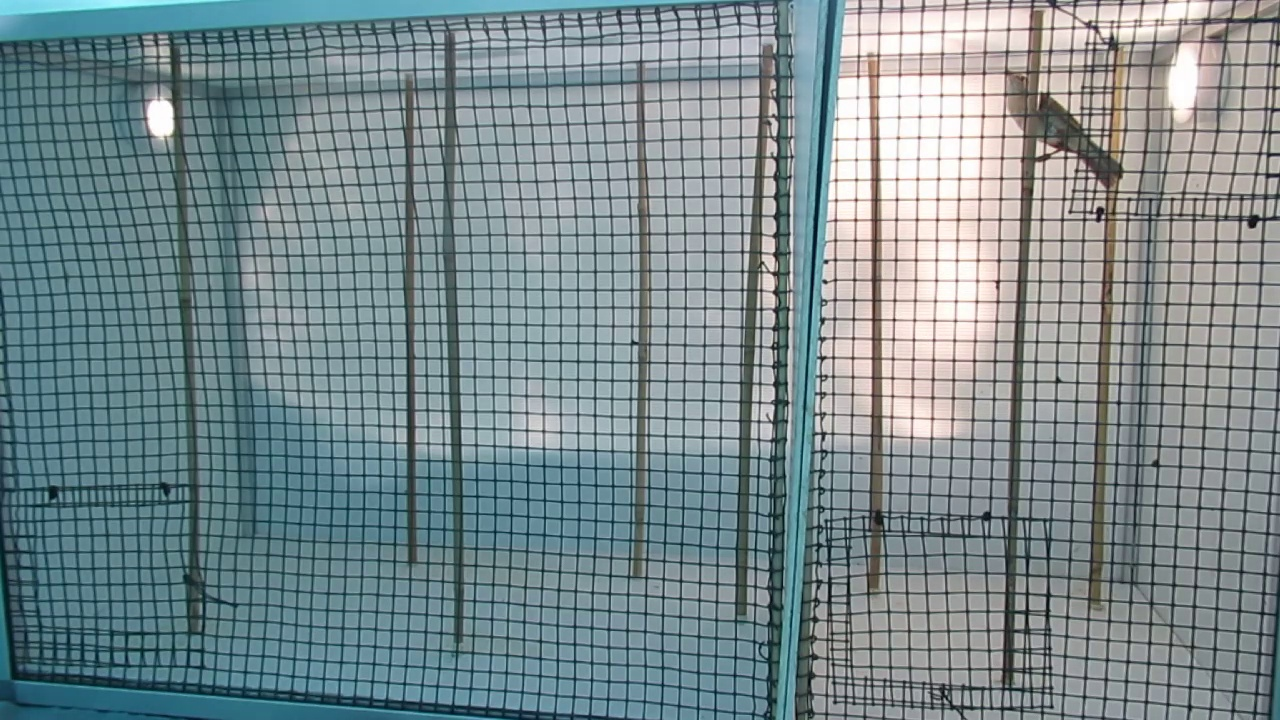bird: (1001, 64, 1128, 187)
stick: (1002, 13, 1044, 684), (733, 46, 777, 617), (1089, 45, 1128, 605), (431, 37, 465, 643), (170, 49, 204, 630), (866, 59, 888, 588), (634, 62, 654, 577), (401, 78, 421, 564)
